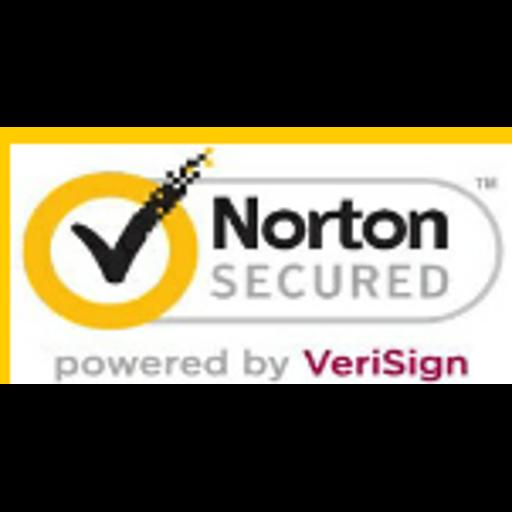DHL: (0, 127, 512, 384)
